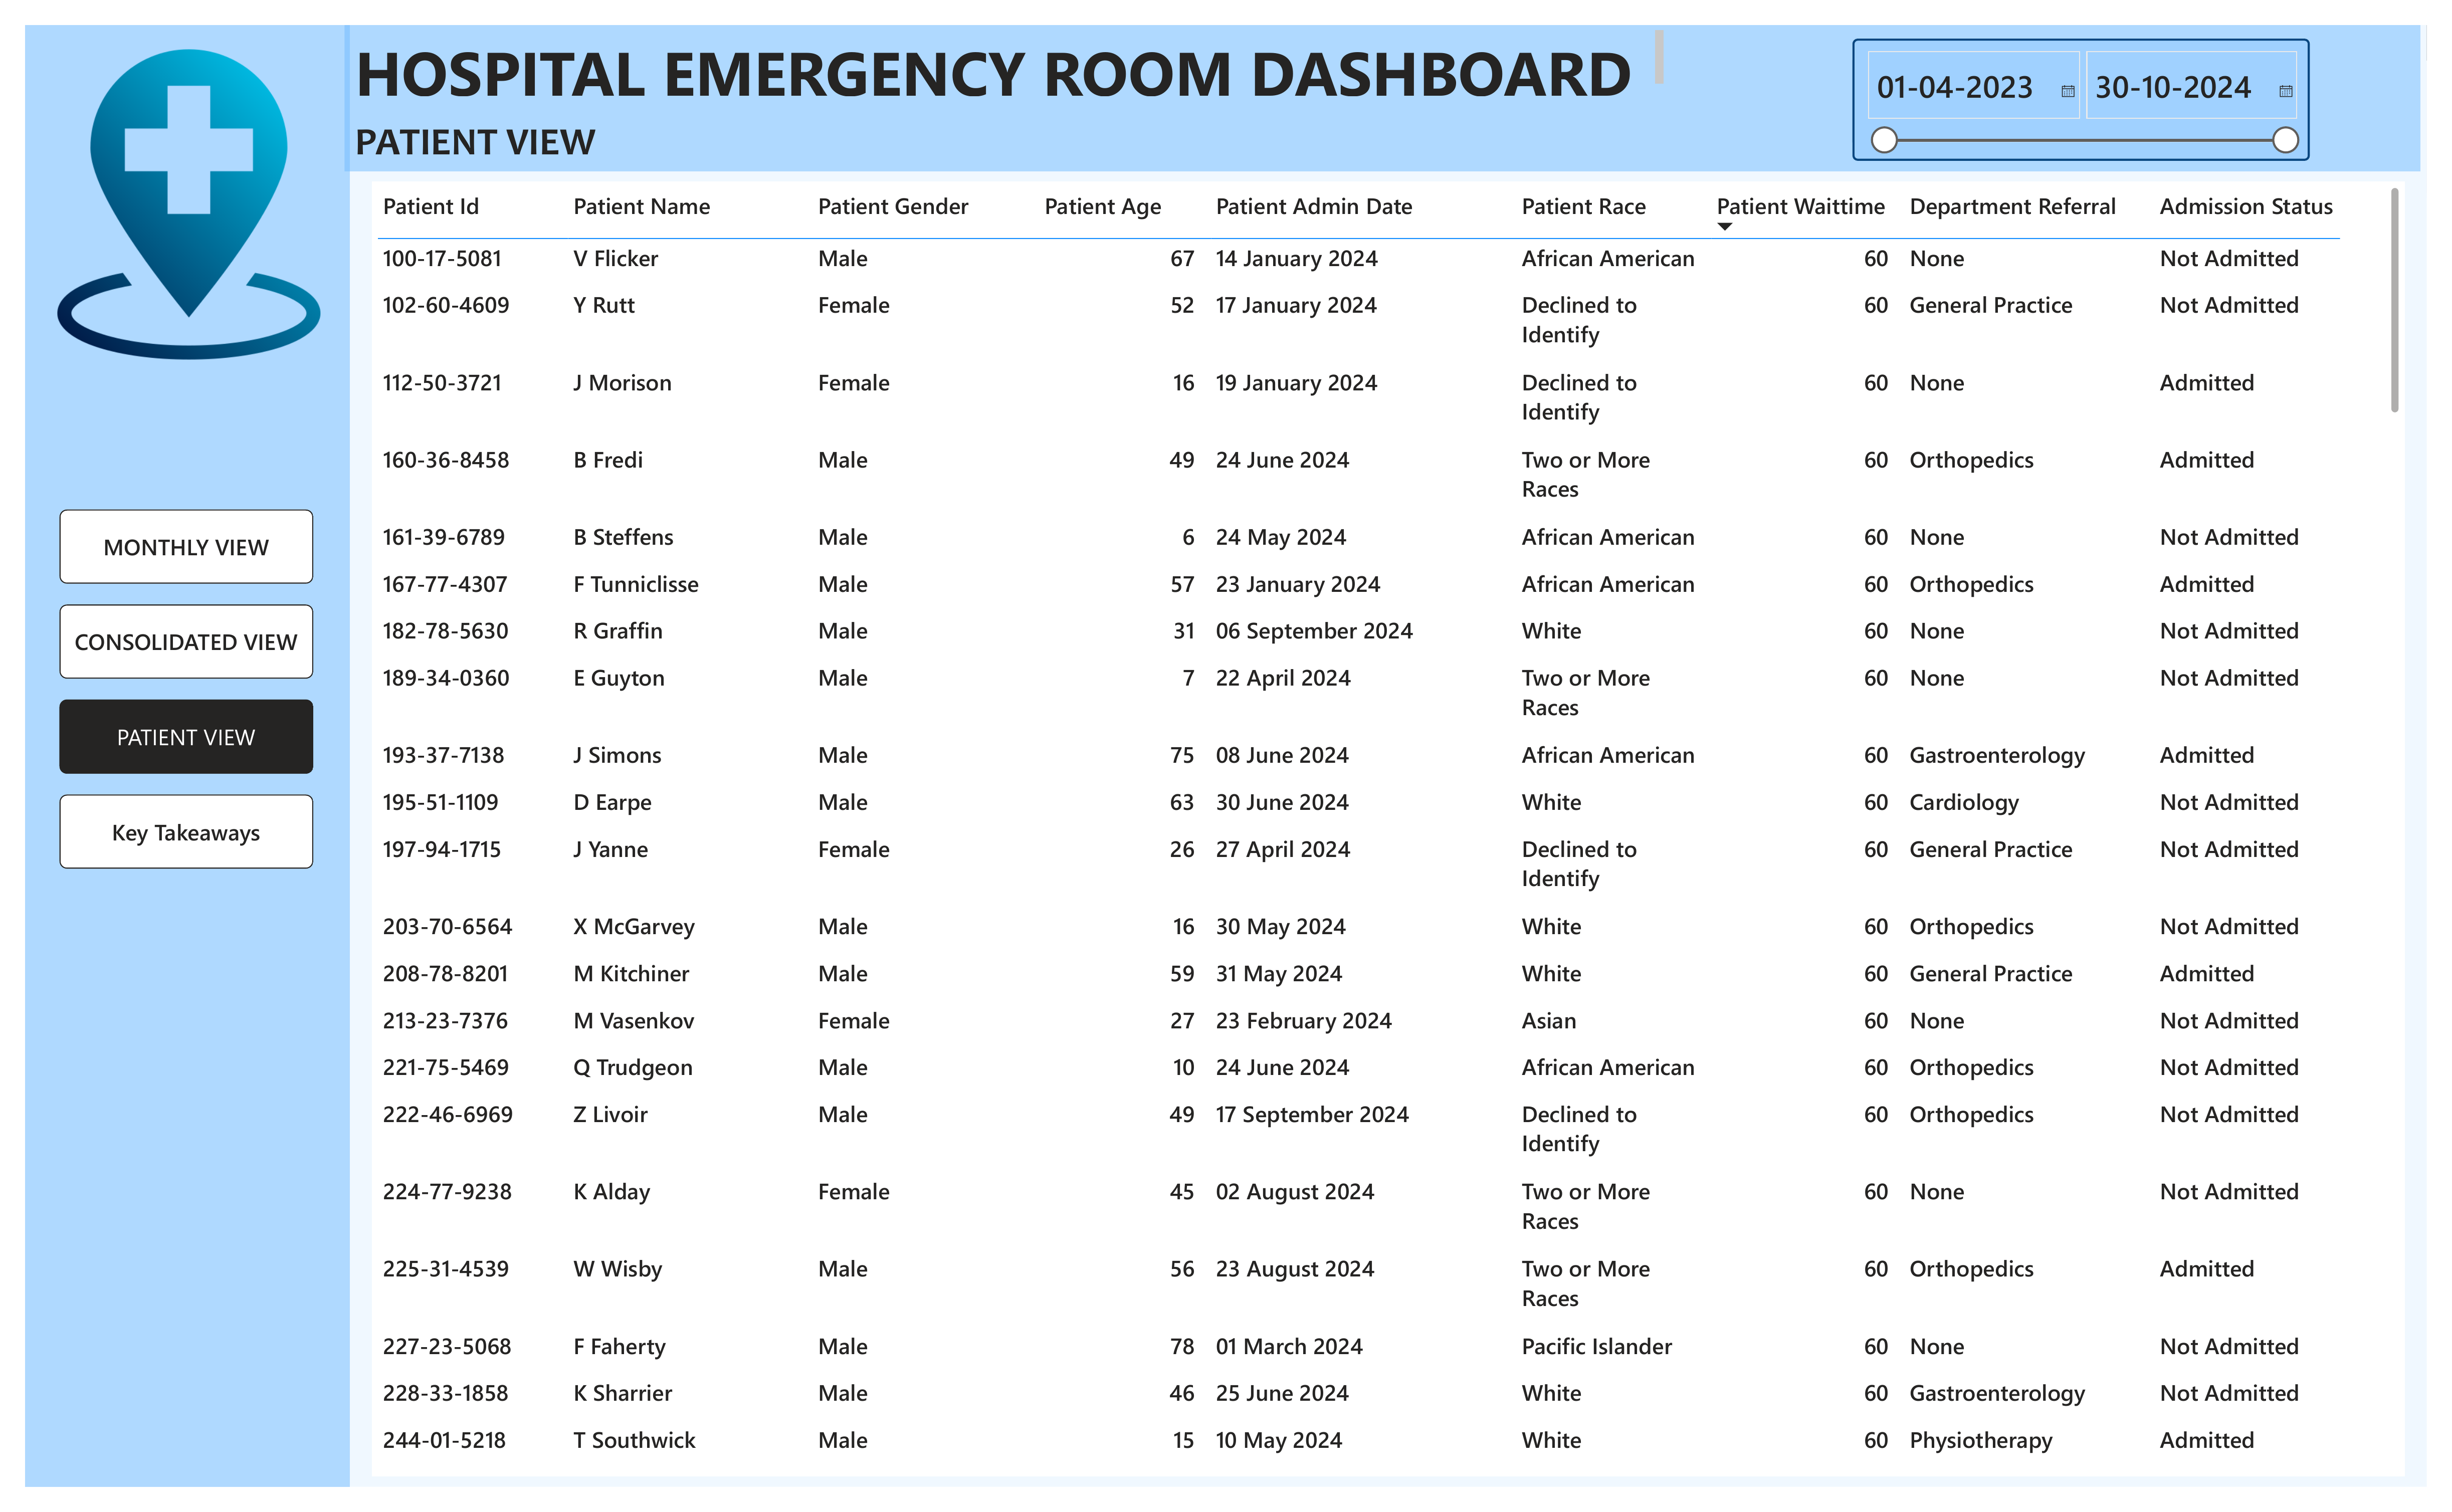

This screenshot's page, from the dashboard's own definition file:
{"tool":"powerbi","page":{"name":"PATIENT VIEW","canvas":[2300,1400],"ordinal":2},"visuals":[{"type":"shape","box":[305.9,0,1988.4,140],"z":0},{"type":"textbox","box":[311.1,0,1262.5,72.6],"z":1000},{"type":"shape","box":[0,0,311.1,1399.9],"z":2000},{"type":"slicer","fields":{"Values":["Date.Year"]},"box":[1749.9,28.5,223,88.1],"z":3000},{"type":"textbox","box":[311.1,83,290.4,67.4],"z":4000},{"type":"image","box":[7.8,23.3,298.1,298.1],"z":5000},{"type":"tableEx","fields":{"Values":["Hospital ER_Data.Patient Id","Hospital ER_Data.Patient Full Name","Hospital ER_Data.Patient Gender","Sum(Hospital ER_Data.Patient Age)","Hospital ER_Data.Patient Admin Date","Hospital ER_Data.Patient Race","Sum(Hospital ER_Data.Patient Waittime)","Hospital ER_Data.Department Referral","Hospital ER_Data.Admission Status"]},"box":[331.8,150.4,1946.9,1239.2],"z":6000},{"type":"slicer","fields":{"Values":["Date.Date"]},"box":[1749.9,13,438.1,116.7],"z":7000},{"type":"pageNavigator","box":[33.3,463.7,242.5,344.8],"z":8000}]}

Visuals, with their boxes on the page's 2300x1400 design canvas (x1, y1, x2, y2). These are canvas units, not pixel positions in the 2452x1512 screenshot, which may show the page scaled, cropped or inside an application window:
shape: rect(306, 0, 2294, 140)
textbox: rect(311, 0, 1574, 73)
shape: rect(0, 0, 311, 1400)
slicer - Date.Year: rect(1750, 28, 1973, 117)
textbox: rect(311, 83, 602, 150)
image: rect(8, 23, 306, 321)
tableEx - Hospital ER_Data.Patient Id x Hospital ER_Data.Patient Full Name: rect(332, 150, 2279, 1390)
slicer - Date.Date: rect(1750, 13, 2188, 130)
pageNavigator: rect(33, 464, 276, 808)
